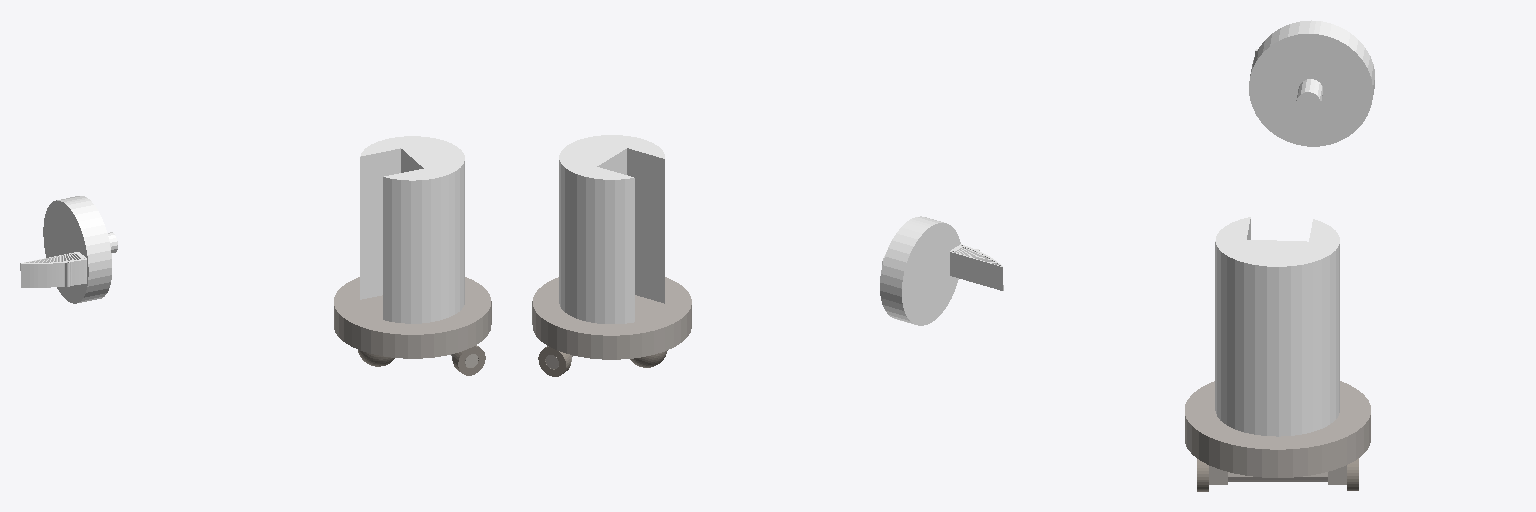
URDF robot description (car2):
<?xml version="1.0" encoding="utf-8"?>
<!-- This URDF was automatically created by SolidWorks to URDF Exporter! Originally created by [author] ([email redacted]) 
     Commit Version: 1.6.0-4-g7f85cfe  Build Version: 1.6.7995.38578
     For more information, please see http://wiki.ros.org/sw_urdf_exporter -->
<robot
  name="car2">
  <link
    name="base_link">
    <inertial>
      <origin
        xyz="0.0038977 -8.1315E-19 0.021661"
        rpy="0 0 0" />
      <mass
        value="10.1" />
      <inertia
        ixx="0.061539"
        ixy="0.0"
        ixz="0.0018957"
        iyy="0.058968"
        iyz="0.0"
        izz="0.112703" />
    </inertial>
    <visual>
      <origin
        xyz="0 0 0"
        rpy="0 0 0" />
      <geometry>
        <mesh
          filename="package://car2/meshes/base_link.STL" />
      </geometry>
      <material
        name="">
        <color
          rgba="0.77647 0.75686 0.73725 1" />
      </material>
    </visual>
    <collision>
      <origin
        xyz="0 0 0"
        rpy="0 0 0" />
      <geometry>
        <mesh
          filename="package://car2/meshes/base_link.STL" />
      </geometry>
    </collision>
  </link>
  <link
    name="castwheel">
    <inertial>
      <origin
        xyz="-0.034033 0.0046637 -0.047711"
        rpy="0 0 0" />
      <mass
        value="1.957" />
      <inertia
        ixx="0.0012525"
        ixy="0.0"
        ixz="0.0"
        iyy="0.0012525"
        iyz="0.0"
        izz="0.0012525" />
    </inertial>
    <visual>
      <origin
        xyz="0 0 0"
        rpy="0 0 0" />
      <geometry>
        <mesh
          filename="package://car2/meshes/castwheel.STL" />
      </geometry>
      <material
        name="">
        <color
          rgba="0.64706 0.61961 0.58824 1" />
      </material>
    </visual>
    <collision>
      <origin
        xyz="0 0 0"
        rpy="0 0 0" />
      <geometry>
        <mesh
          filename="package://car2/meshes/castwheel.STL" />
      </geometry>
    </collision>
  </link>
  <joint
    name="castwheel_joint"
    type="continuous">
    <origin
      xyz="-0.0164468565720474 -0.00527324448375706 -0.025"
      rpy="1.79986954685685 -0.424347021577185 0.792685410767129" />
    <parent
      link="base_link" />
    <child
      link="castwheel" />
    <axis
      xyz="0.578881459990206 -0.0793276054052651 0.811543828945962" />
  </joint>
  <link
    name="leftwheel">
    <inertial>
      <origin
        xyz="2.3592E-16 4.1633E-17 0.0098391"
        rpy="0 0 0" />
      <mass
        value="0.3096" />
      <inertia
        ixx="9.7396E-05"
        ixy="0.0"
        ixz="0.0"
        iyy="9.7396E-05"
        iyz="0.0"
        izz="0.00017415" />
    </inertial>
    <visual>
      <origin
        xyz="0 0 0"
        rpy="0 0 0" />
      <geometry>
        <mesh
          filename="package://car2/meshes/leftwheel.STL" />
      </geometry>
      <material
        name="">
        <color
          rgba="0.64706 0.61961 0.58824 1" />
      </material>
    </visual>
    <collision>
      <origin
        xyz="0 0 0"
        rpy="0 0 0" />
      <geometry>
        <mesh
          filename="package://car2/meshes/leftwheel.STL" />
      </geometry>
    </collision>
  </link>
  <joint
    name="leftwheel_joint"
    type="continuous">
    <origin
      xyz="0.055 -0.110423702246605 -0.035"
      rpy="-1.5707963267949 -0.105014840444308 3.14159265358979" />
    <parent
      link="base_link" />
    <child
      link="leftwheel" />
    <axis
      xyz="0 0 1" />
  </joint>
  <link
    name="rightwheel">
    <inertial>
      <origin
        xyz="-1.6653E-16 4.1633E-17 -0.0098391"
        rpy="0 0 0" />
      <mass
        value="0.3096" />
      <inertia
        ixx="9.7396E-05"
        ixy="0.0"
        ixz="0.0"
        iyy="9.7396E-05"
        iyz="0.0"
        izz="0.00017415" />
    </inertial>
    <visual>
      <origin
        xyz="0 0 0"
        rpy="0 0 0" />
      <geometry>
        <mesh
          filename="package://car2/meshes/rightwheel.STL" />
      </geometry>
      <material
        name="">
        <color
          rgba="0.64706 0.61961 0.58824 1" />
      </material>
    </visual>
    <collision>
      <origin
        xyz="0 0 0"
        rpy="0 0 0" />
      <geometry>
        <mesh
          filename="package://car2/meshes/rightwheel.STL" />
      </geometry>
    </collision>
  </link>
  <joint
    name="rightwheel_joint"
    type="continuous">
    <origin
      xyz="0.055 0.110423702246602 -0.035"
      rpy="1.5707963267949 -0.261061307663736 0" />
    <parent
      link="base_link" />
    <child
      link="rightwheel" />
    <axis
      xyz="0 0 1" />
  </joint>
  <link
    name="link1">
    <inertial>
      <origin
        xyz="0.020912 -0.0016438 0.15"
        rpy="0 0 0" />
      <mass
        value="7.0138" />
      <inertia
        ixx="0.075289"
        ixy="0.00078402"
        ixz="0.0"
        iyy="0.065376"
        iyz="0.0"
        izz="0.035458" />
    </inertial>
    <visual>
      <origin
        xyz="0 0 0"
        rpy="0 0 0" />
      <geometry>
        <mesh
          filename="package://car2/meshes/link1.STL" />
      </geometry>
      <material
        name="">
        <color
          rgba="1 1 1 0.35" />
      </material>
    </visual>
    <collision>
      <origin
        xyz="0 0 0"
        rpy="0 0 0" />
      <geometry>
        <mesh
          filename="package://car2/meshes/link1.STL" />
      </geometry>
    </collision>
  </link>
  <joint
    name="joint1"
    type="revolute">
    <origin
      xyz="0 0 0.05"
      rpy="0 0 0" />
    <parent
      link="base_link" />
    <child
      link="link1" />
    <axis
      xyz="0 0 1" />
    <limit
      lower="-3.14"
      upper="3.14"
      effort="10.0"
      velocity="1.5" />
  </joint>
  <link
    name="link2">
    <inertial>
      <origin
        xyz="-0.13517 2.2454E-16 0"
        rpy="0 0 0" />
      <mass
        value="1.2926" />
      <inertia
        ixx="0.0033047"
        ixy="0.000736"
        ixz="0.0"
        iyy="0.012724"
        iyz="0.0"
        izz="0.012724" />
    </inertial>
    <visual>
      <origin
        xyz="0 0 0"
        rpy="0 0 0" />
      <geometry>
        <mesh
          filename="package://car2/meshes/link2.STL" />
      </geometry>
      <material
        name="">
        <color
          rgba="1 1 1 0.35" />
      </material>
    </visual>
    <collision>
      <origin
        xyz="0 0 0"
        rpy="0 0 0" />
      <geometry>
        <mesh
          filename="package://car2/meshes/link2.STL" />
      </geometry>
    </collision>
  </link>
  <joint
    name="joint2"
    type="prismatic">
    <origin
      xyz="0 0 0.25"
      rpy="0 0 -0.078442" />
    <parent
      link="link1" />
    <child
      link="link2" />
    <axis
      xyz="0 0 1" />
    <limit
      lower="-0.2"
      upper="0"
      effort="50.0"
      velocity="1.5" />
  </joint>
  <link
    name="link3">
    <inertial>
      <origin
        xyz="0.094255 1.3965E-16 1.6653E-16"
        rpy="0 0 0" />
      <mass
        value="2.2879" />
      <inertia
        ixx="0.0027483"
        ixy="0.00155455"
        ixz="0.0"
        iyy="0.022648"
        iyz="0.0"
        izz="0.02234" />
    </inertial>
    <visual>
      <origin
        xyz="0 0 0"
        rpy="0 0 0" />
      <geometry>
        <mesh
          filename="package://car2/meshes/link3.STL" />
      </geometry>
      <material
        name="">
        <color
          rgba="1 1 1 0.35" />
      </material>
    </visual>
    <collision>
      <origin
        xyz="0 0 0"
        rpy="0 0 0" />
      <geometry>
        <mesh
          filename="package://car2/meshes/link3.STL" />
      </geometry>
    </collision>
  </link>
  <joint
    name="joint3"
    type="prismatic">
    <origin
      xyz="-0.3 0 0"
      rpy="0 0 0" />
    <parent
      link="link2" />
    <child
      link="link3" />
    <axis
      xyz="1 0 0" />
    <limit
      lower="-0.26"
      upper="0"
      effort="10.0"
      velocity="1.5" />
  </joint>
  <link
    name="link4">
    <inertial>
      <origin
        xyz="-0.076653 5.6379E-17 0"
        rpy="0 0 0" />
      <mass
        value="2.5617" />
      <inertia
        ixx="0.0038358"
        ixy="0.0015474"
        ixz="0.0"
        iyy="0.023401"
        iyz="0.0"
        izz="0.022599" />
    </inertial>
    <visual>
      <origin
        xyz="0 0 0"
        rpy="0 0 0" />
      <geometry>
        <mesh
          filename="package://car2/meshes/link4.STL" />
      </geometry>
      <material
        name="">
        <color
          rgba="1 1 1 0.35" />
      </material>
    </visual>
    <collision>
      <origin
        xyz="0 0 0"
        rpy="0 0 0" />
      <geometry>
        <mesh
          filename="package://car2/meshes/link4.STL" />
      </geometry>
    </collision>
  </link>
  <joint
    name="joint4"
    type="revolute">
    <origin
      xyz="-0.1216 0 0"
      rpy="0 0 0" />
    <parent
      link="link3" />
    <child
      link="link4" />
    <axis
      xyz="0 -1 0" />
    <limit
      lower="-1.57"
      upper="1.57"
      effort="10.0"
      velocity="1.5" />
  </joint>
  <link
    name="link5">
    <inertial>
      <origin
        xyz="-0.023077 2.949E-17 1.1102E-16"
        rpy="0 0 0" />
      <mass
        value="1.748" />
      <inertia
        ixx="0.0084172"
        ixy="0.0002877"
        ixz="0.0"
        iyy="0.0047344"
        iyz="0.0"
        izz="0.0047344" />
    </inertial>
    <visual>
      <origin
        xyz="0 0 0"
        rpy="0 0 0" />
      <geometry>
        <mesh
          filename="package://car2/meshes/link5.STL" />
      </geometry>
      <material
        name="">
        <color
          rgba="1 1 1 0.35" />
      </material>
    </visual>
    <collision>
      <origin
        xyz="0 0 0"
        rpy="0 0 0" />
      <geometry>
        <mesh
          filename="package://car2/meshes/link5.STL" />
      </geometry>
    </collision>
  </link>
  <joint
    name="joint5"
    type="revolute">
    <origin
      xyz="-0.25745 0 0"
      rpy="0 0 0" />
    <parent
      link="link4" />
    <child
      link="link5" />
    <axis
      xyz="-1 0 0" />
    <limit
      lower="-3.14"
      upper="3.14"
      effort="0"
      velocity="1.5" />
  </joint>
  <link
    name="finger1">
    <inertial>
      <origin
        xyz="-0.043191 -0.0022229 1.6653E-16"
        rpy="0 0 0" />
      <mass
        value="0.097614" />
      <inertia
        ixx="3.3639E-05"
        ixy="1.209E-05"
        ixz="6.7E-8"
        iyy="0.0001198"
        iyz="4.6E-8"
        izz="0.00011277" />
    </inertial>
    <visual>
      <origin
        xyz="0 0 0"
        rpy="0 0 0" />
      <geometry>
        <mesh
          filename="package://car2/meshes/finger1.STL" />
      </geometry>
      <material
        name="">
        <color
          rgba="1 1 1 0.35" />
      </material>
    </visual>
    <collision>
      <origin
        xyz="0 0 0"
        rpy="0 0 0" />
      <geometry>
        <mesh
          filename="package://car2/meshes/finger1.STL" />
      </geometry>
    </collision>
  </link>
  <joint
    name="fin1"
    type="prismatic">
    <origin
      xyz="-0.05 0.076716 -0.00044365"
      rpy="-0.0057829 0 0" />
    <parent
      link="link5" />
    <child
      link="finger1" />
    <axis
      xyz="0 0.99998 0.0057829" />
    <limit
      lower="-0.05"
      upper="0"
      effort="30.0"
      velocity="1.0" />
  </joint>
  <link
    name="finger2">
    <inertial>
      <origin
        xyz="-0.043191 0.0022229 2.2204E-16"
        rpy="0 0 0" />
      <mass
        value="0.097614" />
      <inertia
        ixx="3.3639E-05"
        ixy="1.209E-05"
        ixz="6.7E-8"
        iyy="0.0001198"
        iyz="4.6E-8"
        izz="0.00011277" />
    </inertial>
    <visual>
      <origin
        xyz="0 0 0"
        rpy="0 0 0" />
      <geometry>
        <mesh
          filename="package://car2/meshes/finger2.STL" />
      </geometry>
      <material
        name="">
        <color
          rgba="1 1 1 0.35" />
      </material>
    </visual>
    <collision>
      <origin
        xyz="0 0 0"
        rpy="0 0 0" />
      <geometry>
        <mesh
          filename="package://car2/meshes/finger2.STL" />
      </geometry>
    </collision>
  </link>
  <joint
    name="fin2"
    type="prismatic">
    <origin
      xyz="-0.05 -0.077005 0.00044532"
      rpy="-0.0057829 0 0" />
    <parent
      link="link5" />
    <child
      link="finger2" />
    <axis
      xyz="0 0.99998 0.0057829" />
    <limit
      lower="0"
      upper="0.05"
      effort="30.0"
      velocity="1.0" />
  </joint>
</robot>

--- What the picture shows (computed from the rendered views, not written in the file) ---
3 views of the same robot in one strip: view 1: azimuth 30°, elevation 25°; view 2: azimuth 150°, elevation 25°; view 3: azimuth 270°, elevation 25° (orthographic).
Model car2 with 11 links and 10 joints (3 revolute, 3 continuous, 4 prismatic), rooted at base_link, posed every joint at zero.
Visible links, largest first — view 1: link1, base_link, link5, finger2, leftwheel; view 2: link1, base_link, link5, finger2, rightwheel; view 3: link1, link5, base_link.
Link boxes in pixels (x1,y1,x2,y2): link1: (360,136,464,323); base_link: (334,277,491,367); link5: (43,196,117,303); finger2: (20,252,86,287); leftwheel: (453,345,485,375); link1: (559,135,664,323); base_link: (532,277,691,368); link5: (880,216,960,325); finger2: (950,244,1003,290); rightwheel: (538,346,570,376); link1: (1215,217,1339,436); link5: (1249,20,1374,146); base_link: (1185,381,1370,484).
Bounding box of the posed robot: 1 × 0.306 × 0.4649 m (x, y, z).
Meshes: 11 distinct files referenced, 7 mesh visuals loaded (7 binary STL); not drawn: 4 (reference not matched to a file when rendering).